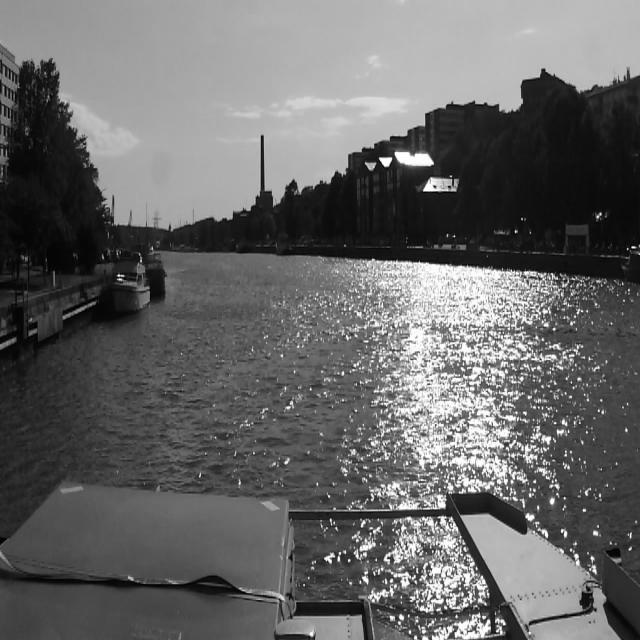ship: (108, 249, 149, 322)
